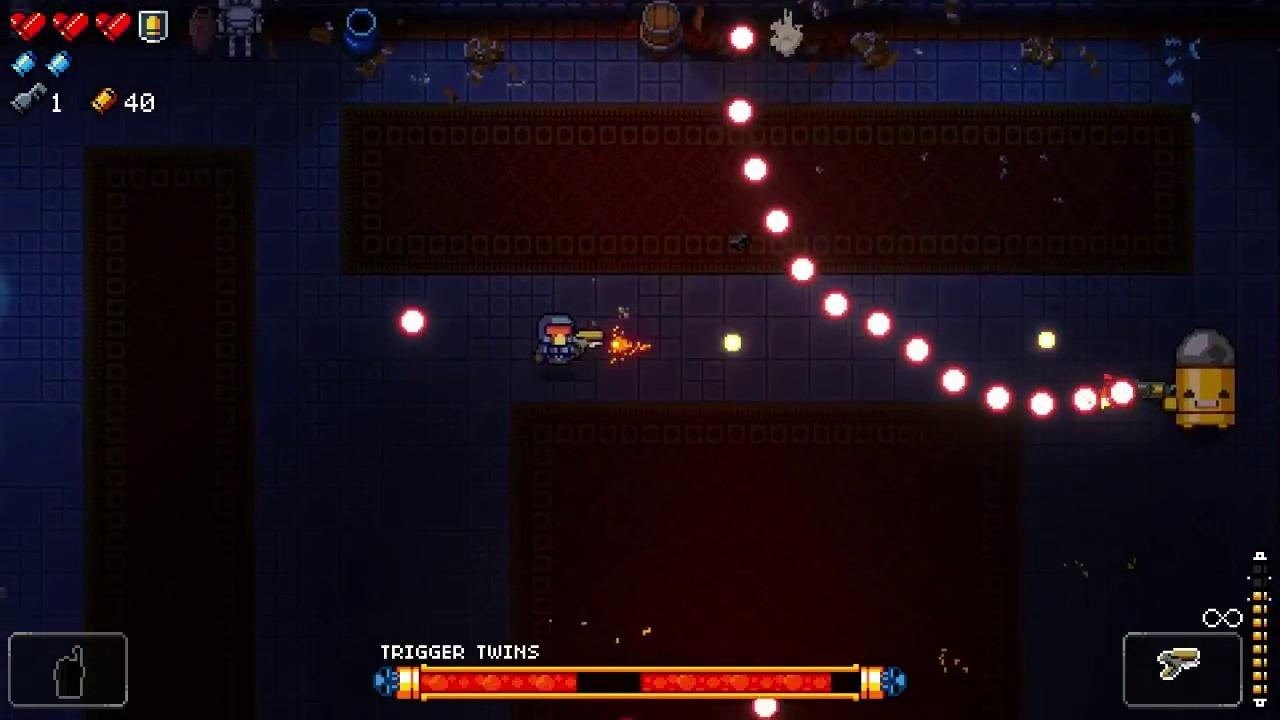boss_smiley: (1174, 330, 1237, 430)
bullet: (784, 251, 817, 286), (397, 304, 428, 338), (822, 290, 852, 323), (1027, 390, 1057, 422), (863, 307, 893, 339), (763, 207, 794, 237), (984, 386, 1014, 415), (903, 337, 933, 366), (727, 99, 755, 130), (1071, 385, 1100, 414), (1109, 378, 1137, 408), (940, 367, 967, 397), (730, 26, 758, 54), (742, 157, 767, 187), (752, 698, 780, 720)
player: (536, 316, 577, 369)
